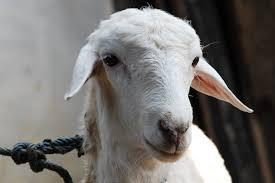Sheep: (53, 4, 267, 174)
